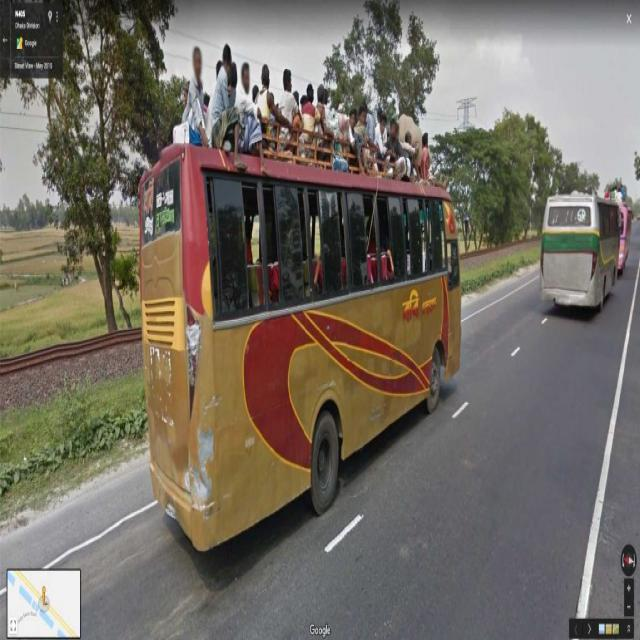bus: (139, 141, 461, 555), (540, 190, 622, 310)
